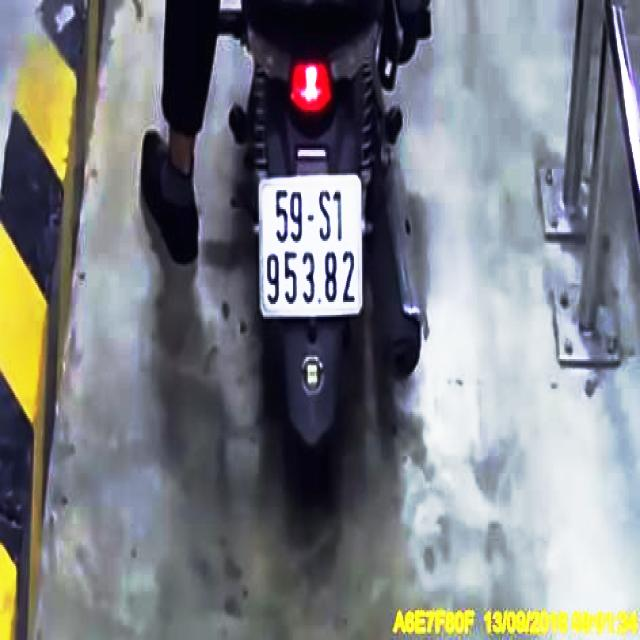license_plate: (262, 182, 362, 315)
